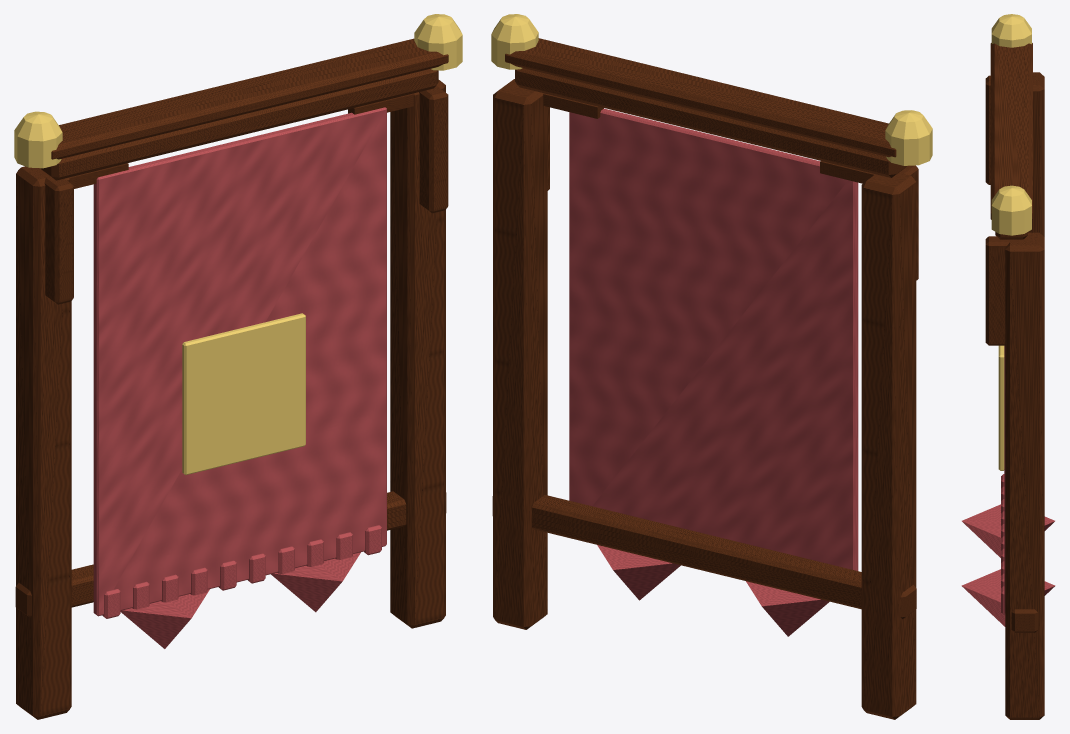
File: fantasy-mmo-city-and-townsfolk-hanging-guild-banner-67cde01e.glb
3 views of the same model, side by side, from view 1: azimuth 30°, elevation 25°; view 2: azimuth 150°, elevation 25°; view 3: azimuth 270°, elevation 25° (orthographic). The views are drawn at different scales.
Parts seen in each view (by area): view 1: banner/red, hanging-guild-banner, banner/gold; view 2: banner/red, hanging-guild-banner; view 3: hanging-guild-banner, banner/red, banner/gold.
Part boxes in pixels (x1,y1,x2,y2): banner/red: (93, 107, 386, 648); hanging-guild-banner: (14, 14, 462, 719); banner/gold: (182, 313, 305, 474); banner/red: (569, 108, 858, 636); hanging-guild-banner: (491, 14, 932, 719); hanging-guild-banner: (985, 14, 1044, 719); banner/red: (961, 345, 1055, 626); banner/gold: (998, 345, 1004, 470).
Bounding box in the file's own units: 2.74 × 3.58 × 0.576.
3 materials, 2 textured.
